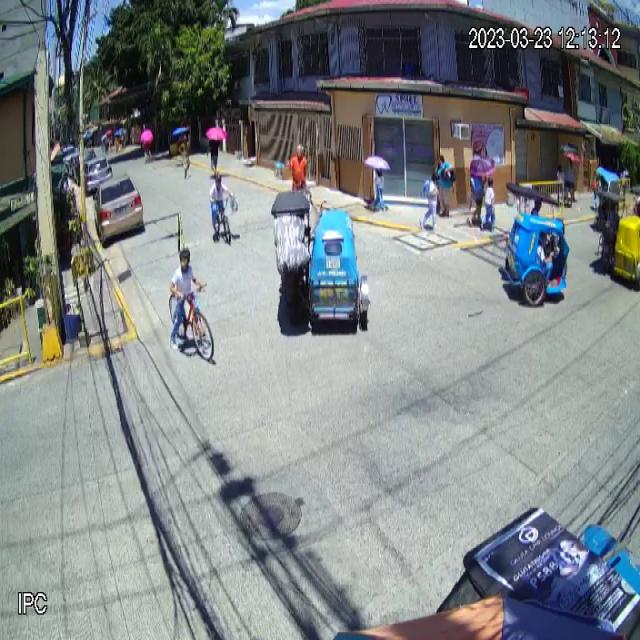Car: (93, 173, 143, 244)
Tricycle: (270, 189, 371, 336), (497, 178, 570, 309), (597, 189, 640, 284)
